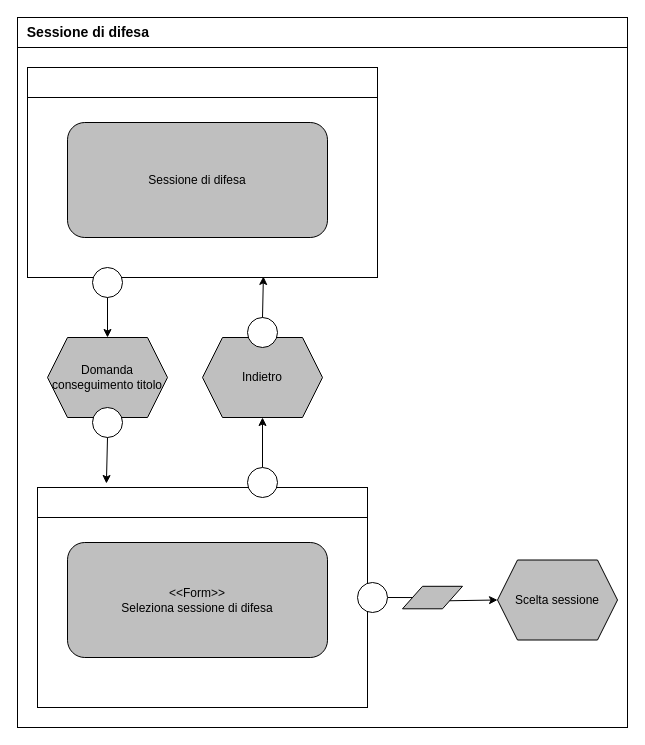
Image size: 645x745. Some labels were removed from this diagram. The shapes that lost their labels are listed below. From the top down, each one's centre as x and y in pixels, then its label:
point 202,82: Gestione sessione di laurea
point 202,502: Selezione sessione di difesa
